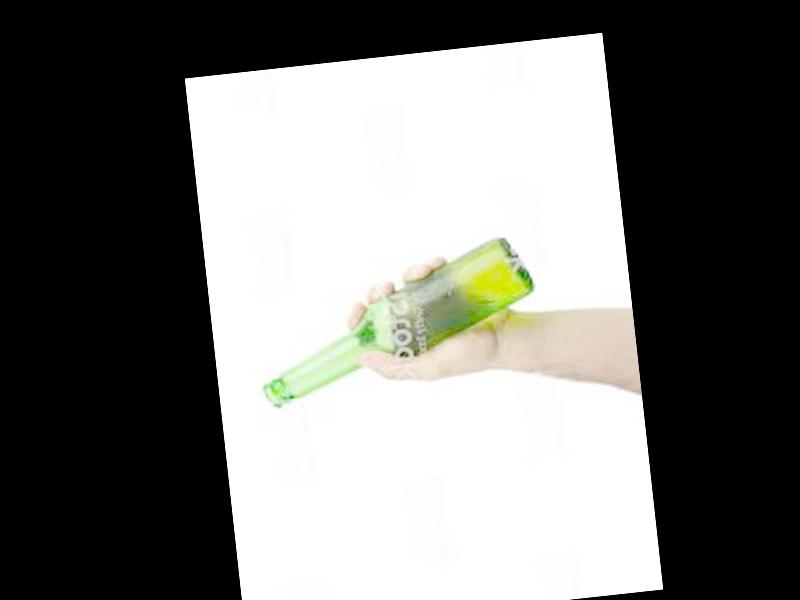Beer: (247, 234, 541, 410)
